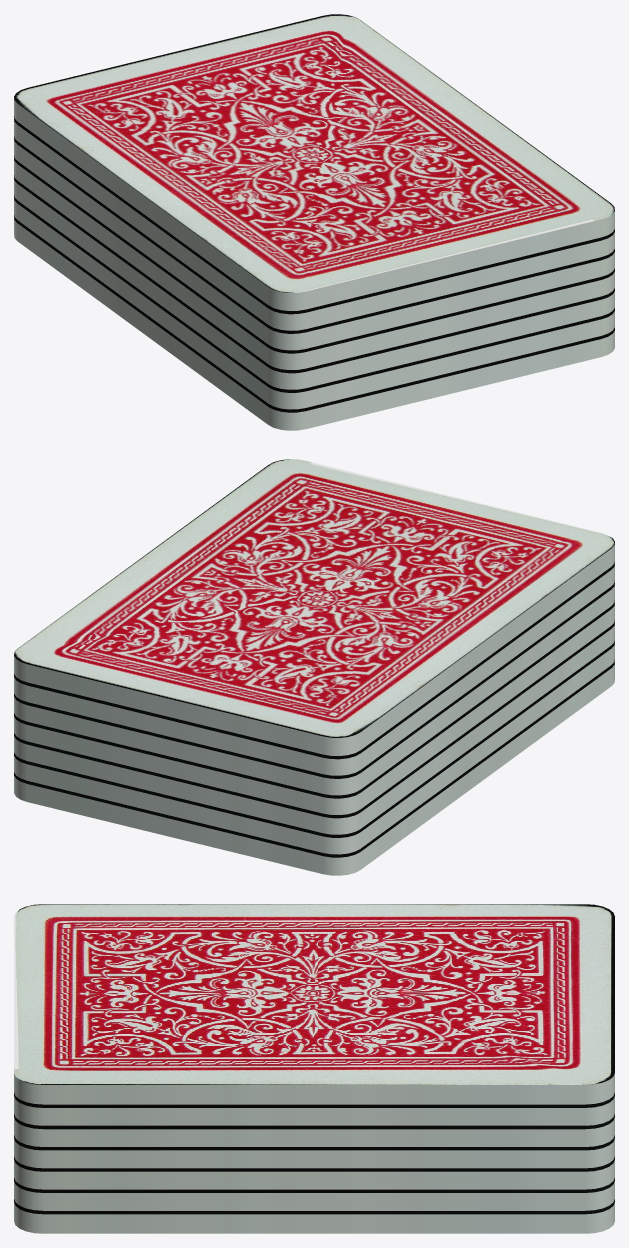
The model's file is carddeck.fbx.
3 views of the same model, one above another, from view 1: azimuth 30°, elevation 25°; view 2: azimuth 150°, elevation 25°; view 3: azimuth 270°, elevation 25° (orthographic). The views are drawn at different scales.
Visible parts, largest first — view 1: card_back; view 2: card_back; view 3: card_back.
Part boxes in pixels (<box>): card_back: <box>14,14,614,430</box>; card_back: <box>14,459,614,875</box>; card_back: <box>14,904,614,1233</box>.
Size of the model in its own units: 71.19 by 27.32 by 100.
1 material, 1 textured.
